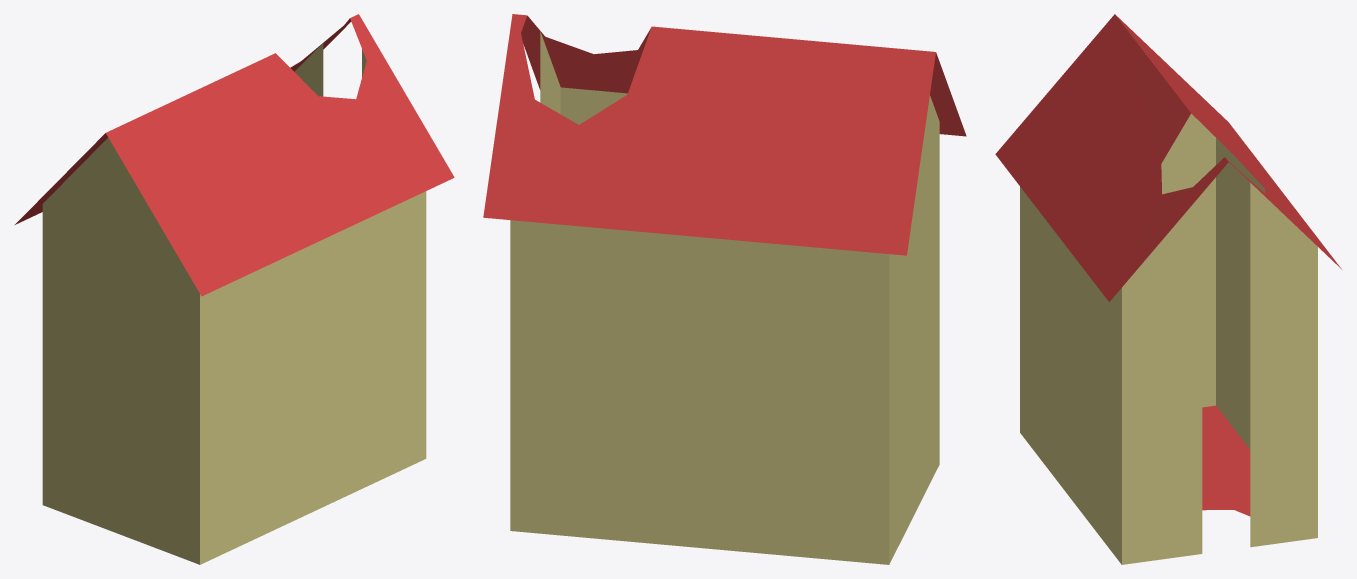
The picture shows the model from 3 angles, left to right: view 1: azimuth 30°, elevation 25°; view 2: azimuth 150°, elevation 25°; view 3: azimuth 270°, elevation 25°; orthographic projection. The views are drawn at different scales.
Size of the model in its own units: 10.92 by 8.89 by 11.21.
